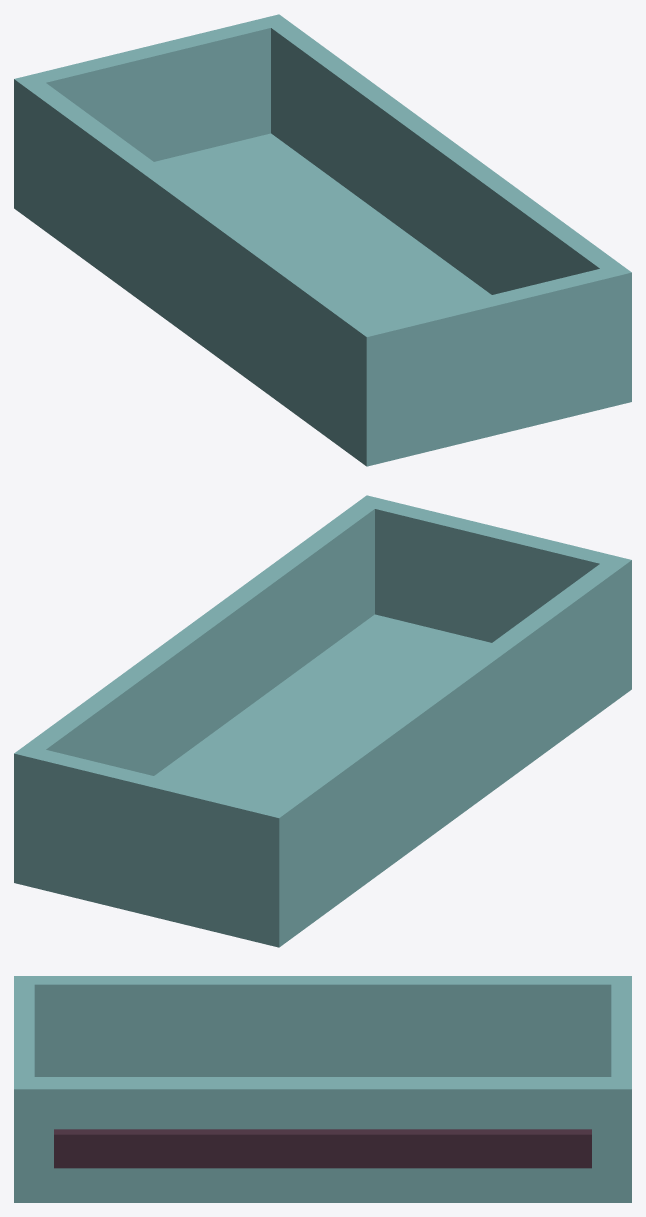
The model's file is tabledechevet_tirroir.fbx.
The picture shows the model from 3 angles, top to bottom: view 1: azimuth 30°, elevation 25°; view 2: azimuth 150°, elevation 25°; view 3: azimuth 270°, elevation 25°; orthographic projection. The views are drawn at different scales.
Parts seen in each view (by area): view 1: Cube.001; view 2: Cube.001; view 3: Cube.001.
Part boxes in pixels (left/top/right/bottom): Cube.001: left=14, top=14, right=631, bottom=466; Cube.001: left=14, top=495, right=631, bottom=947; Cube.001: left=14, top=976, right=631, bottom=1202.
Bounding box in the file's own units: 68.6 × 30.56 × 151.
